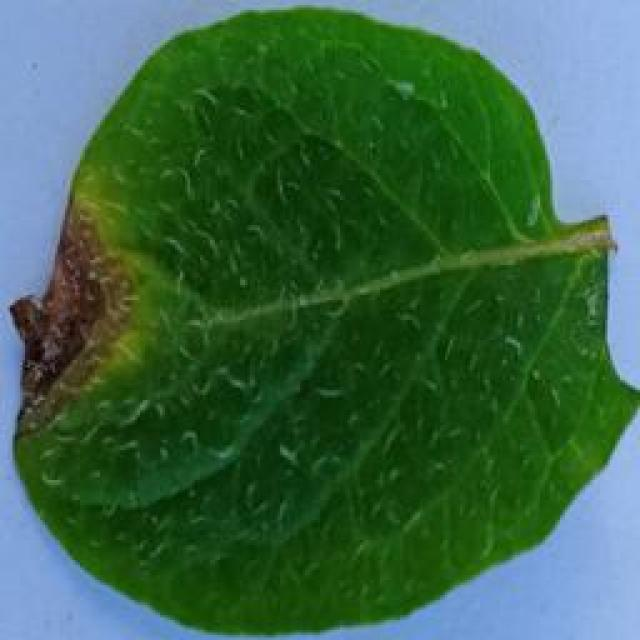Potato_Late_Blight: (14, 10, 621, 621)
